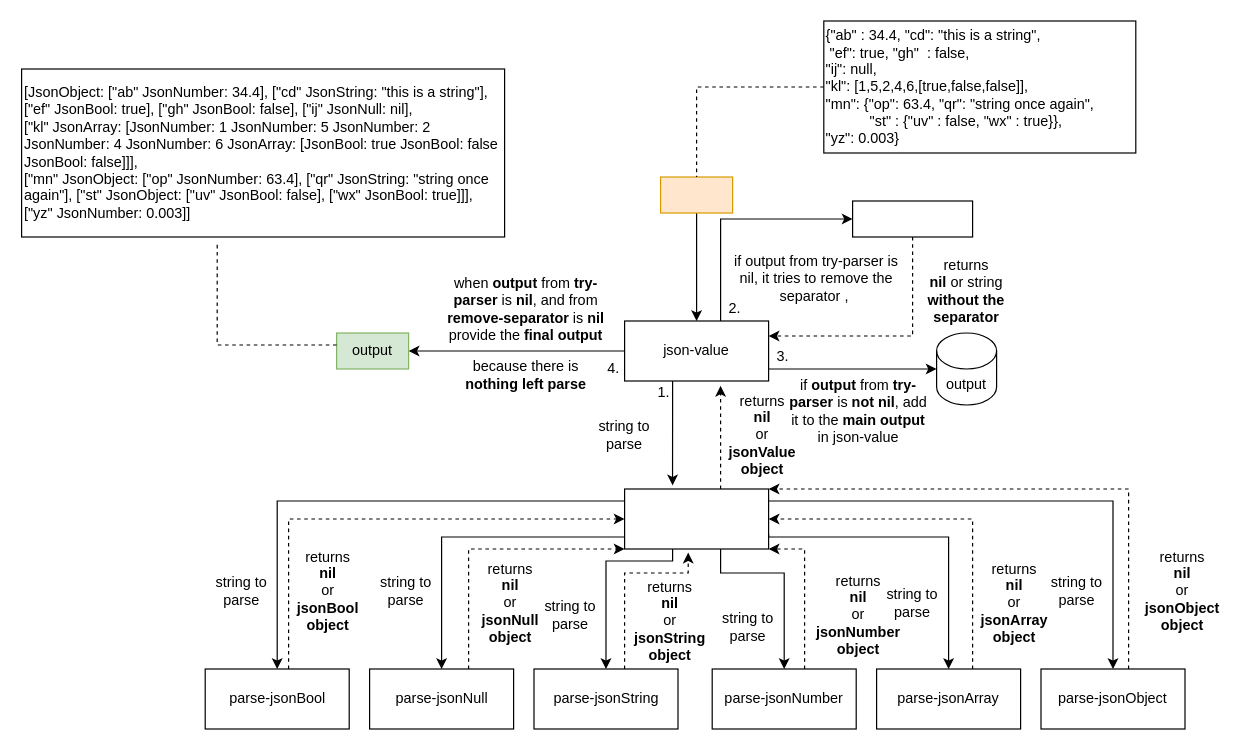
The diagram is 1244 pixels wide and 750 high, and some of its shapes have lost their labels. Here are the shapes that lost their labels. From the top down, the centre of each, then its label:
point (696, 194): input
point (912, 218): remove-separator
point (696, 518): try-parser
